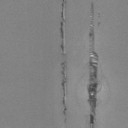slag inclusion: (87, 2, 100, 128), (60, 62, 68, 117), (59, 0, 66, 57)
